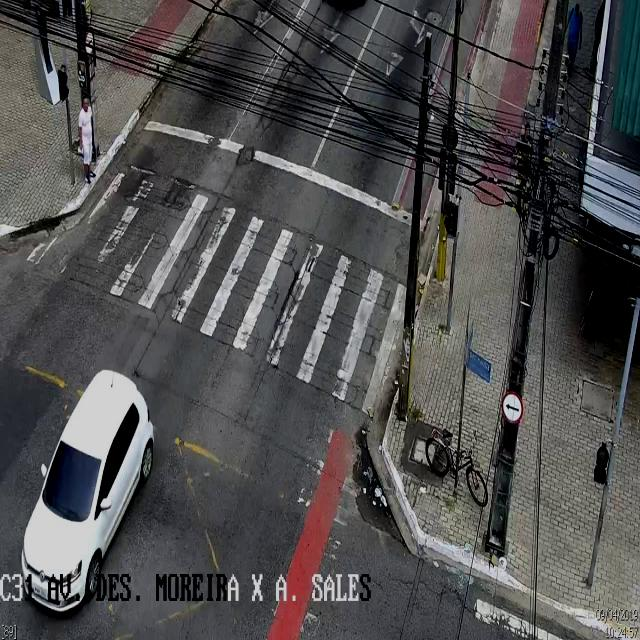Car: (20, 369, 154, 612)
